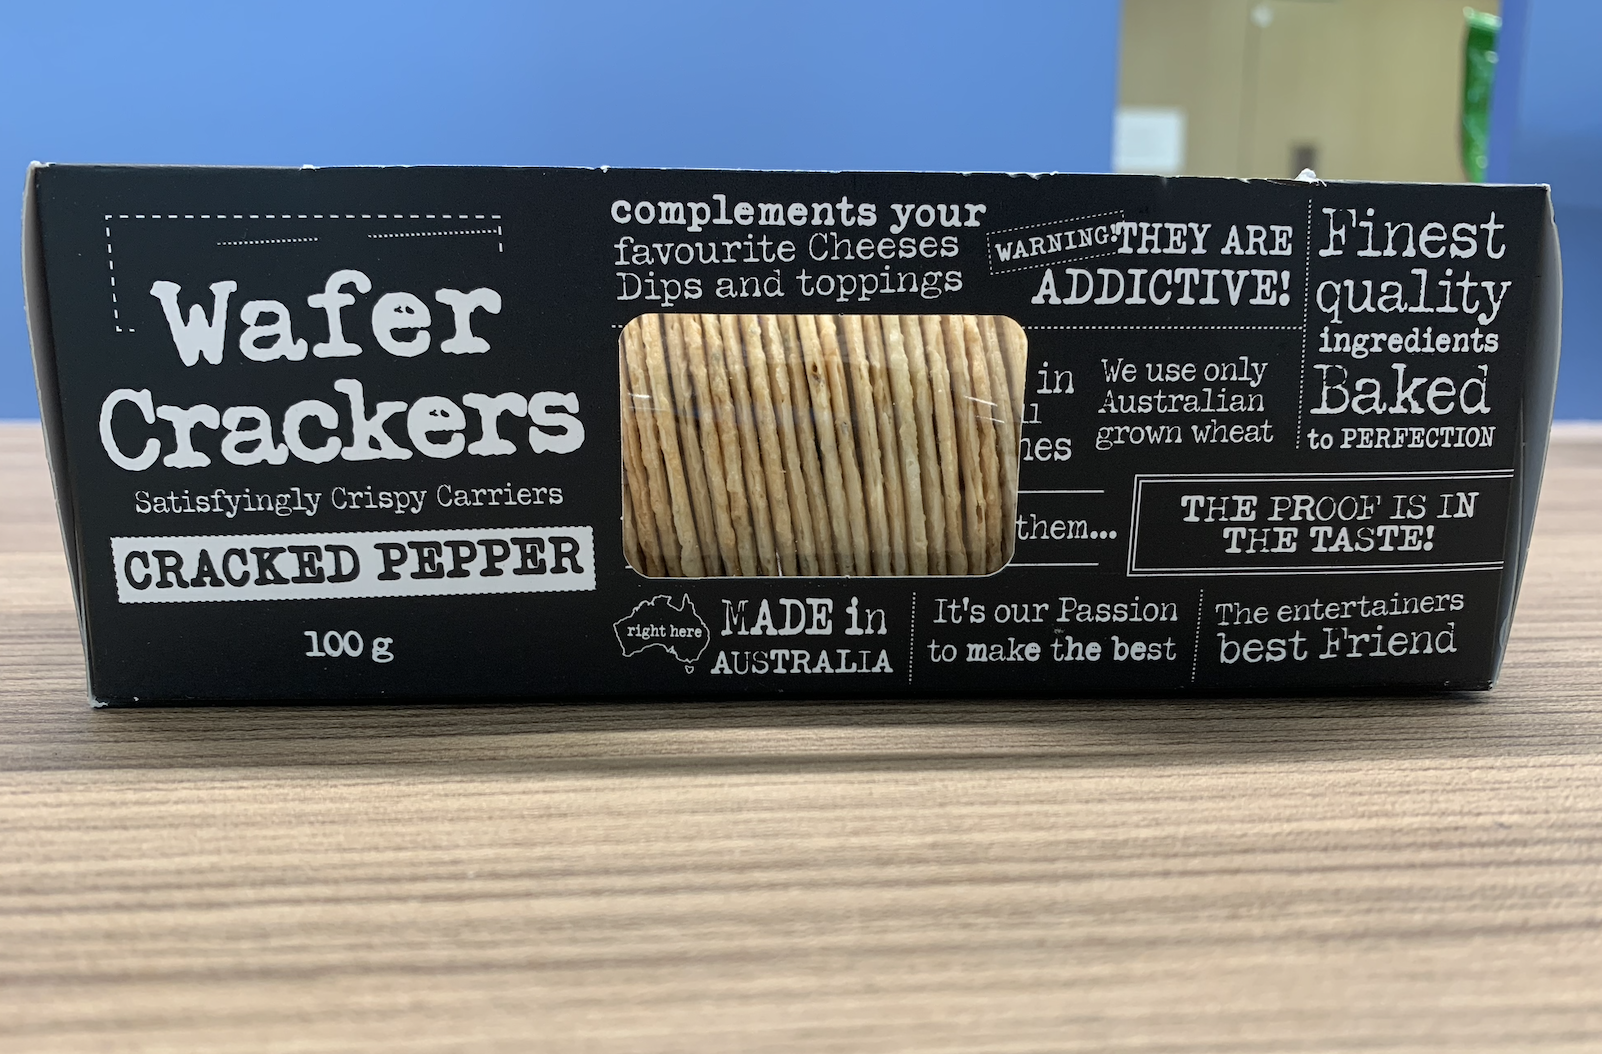crackers_150g: (45, 169, 1498, 667)
